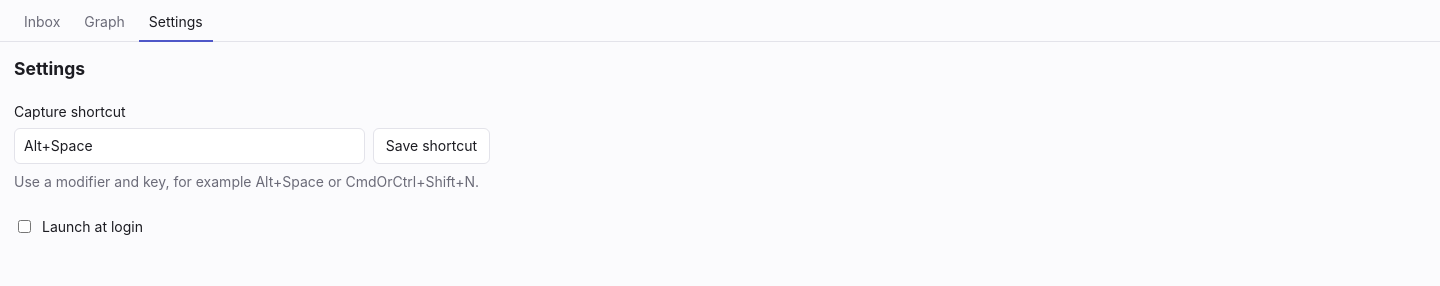
Test case: Settings › opens from the tray and applies a shortcut change without restart
In the field labelled "Capture shortcut": (189, 146) [14, 128, 365, 164], type "CmdOrCtrl+Shift+N"
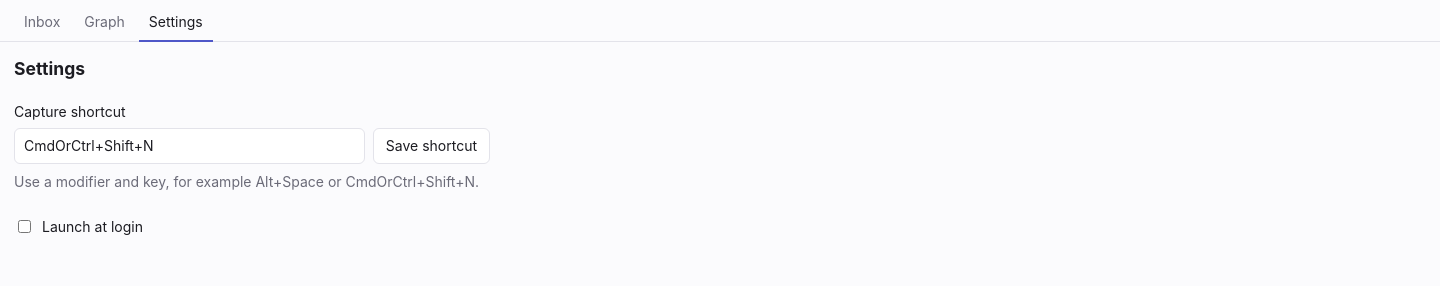
Click the button "Save shortcut": (431, 146) [373, 128, 490, 164]
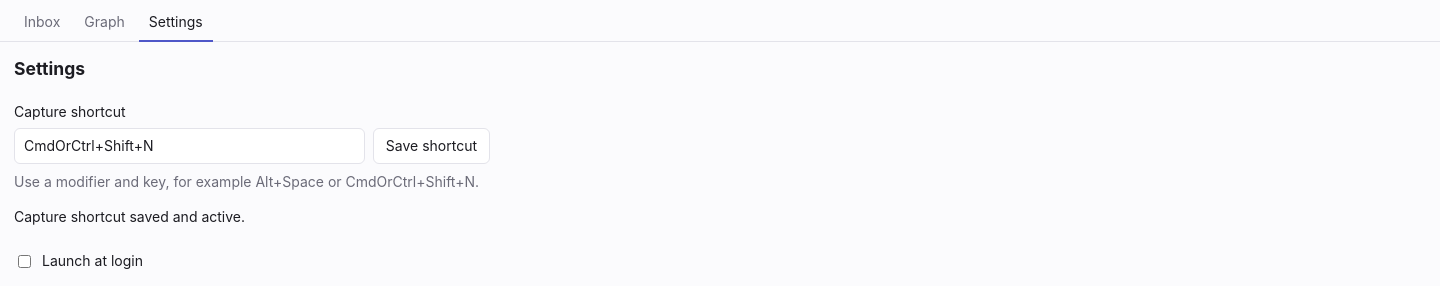
expect the text "Capture shortcut saved and active." is shown: met, box [14, 208, 245, 225]
